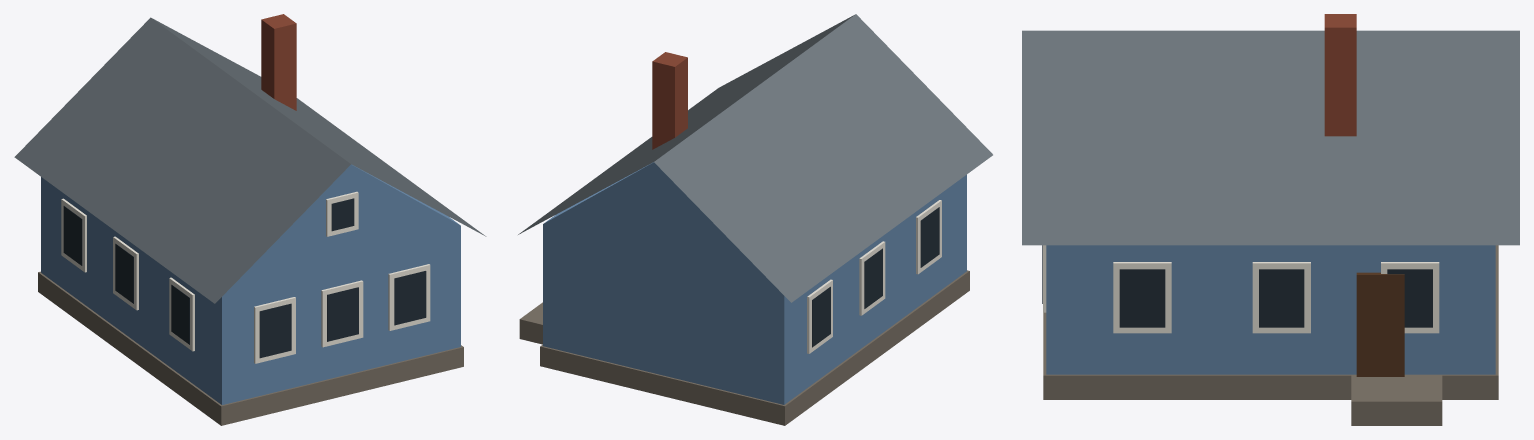
File: izba_blue_grey.glb
The picture shows the model from 3 angles, left to right: view 1: azimuth 30°, elevation 25°; view 2: azimuth 150°, elevation 25°; view 3: azimuth 270°, elevation 25°; orthographic projection. The views are drawn at different scales.
Parts seen in each view (by area): view 1: izba_blue_grey; view 2: izba_blue_grey; view 3: izba_blue_grey.
Part boxes in pixels (x1,y1,x2,y2): izba_blue_grey: [14, 14, 486, 425]; izba_blue_grey: [518, 14, 992, 425]; izba_blue_grey: [1022, 14, 1519, 425].
Bounding box in the file's own units: 8.05 × 7 × 9.3.
